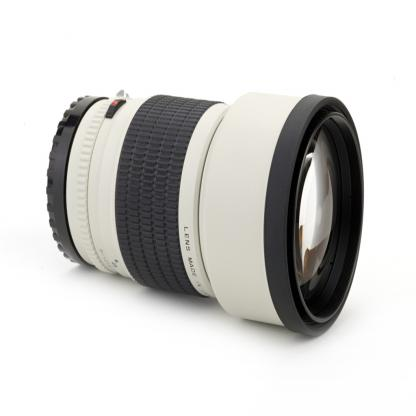Camera: (41, 59, 394, 347)
